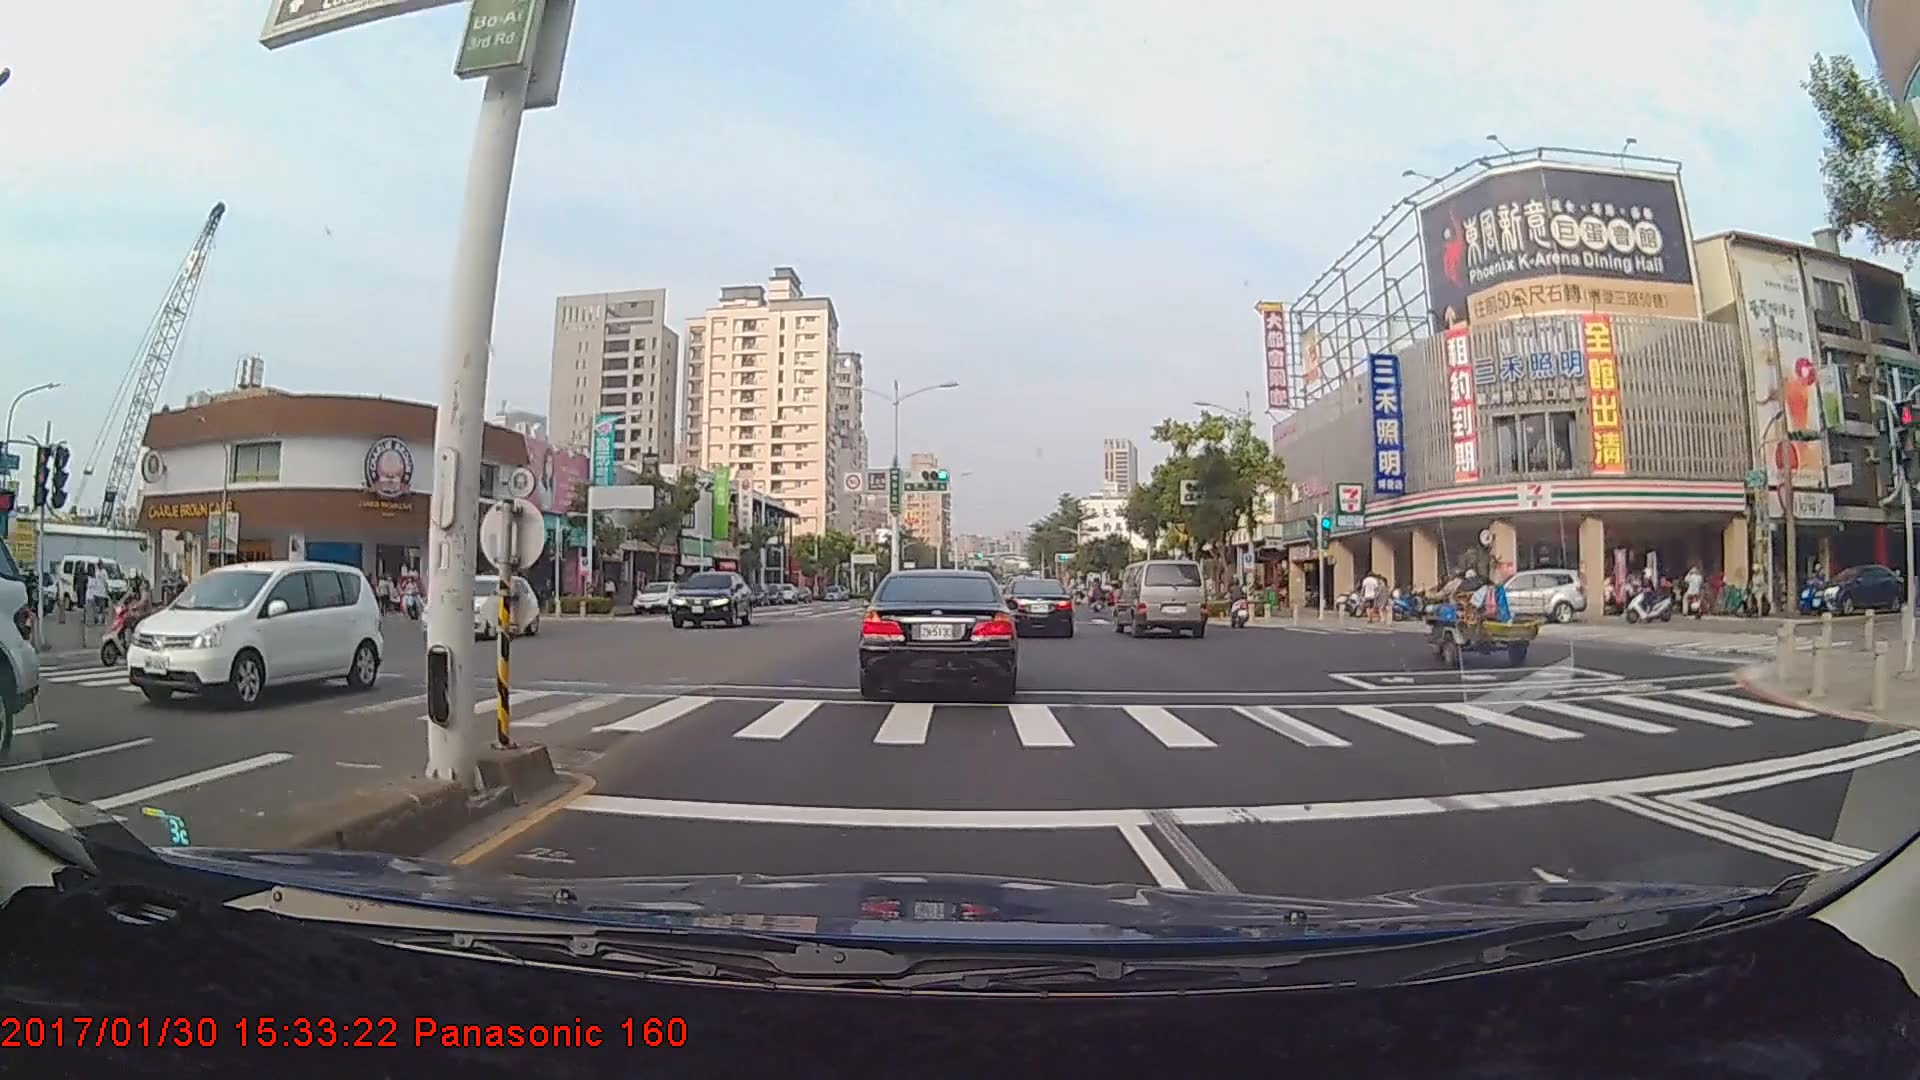pedestrian: (87, 559, 114, 629), (71, 558, 91, 622), (1360, 569, 1380, 622)
rider: (96, 563, 175, 672), (1621, 565, 1686, 632), (1216, 579, 1255, 632)
vehicle: (114, 557, 375, 705), (858, 567, 1018, 701), (417, 569, 534, 642), (1439, 572, 1582, 628), (1117, 559, 1207, 638), (669, 570, 753, 629), (1001, 577, 1075, 638), (630, 579, 682, 613)
